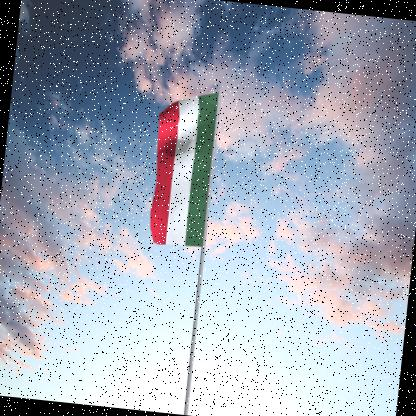hu: (146, 88, 218, 250)
